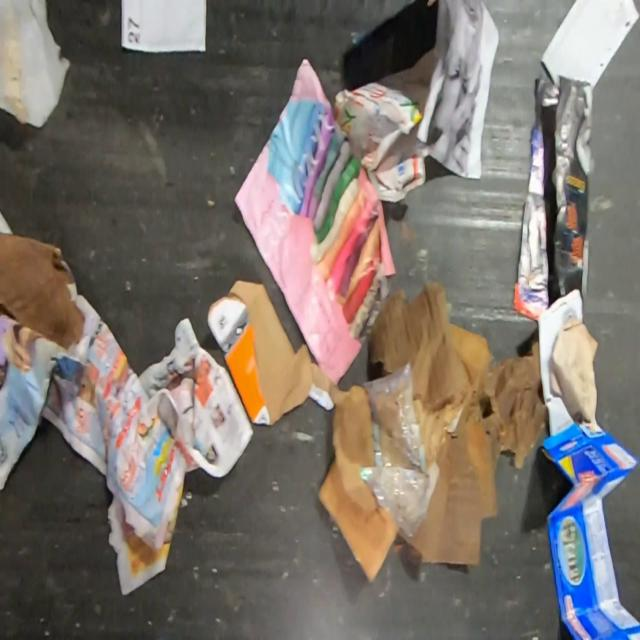cardboard: (317, 279, 548, 584), (541, 420, 639, 640), (205, 279, 346, 425), (0, 228, 101, 366), (549, 314, 598, 423)
